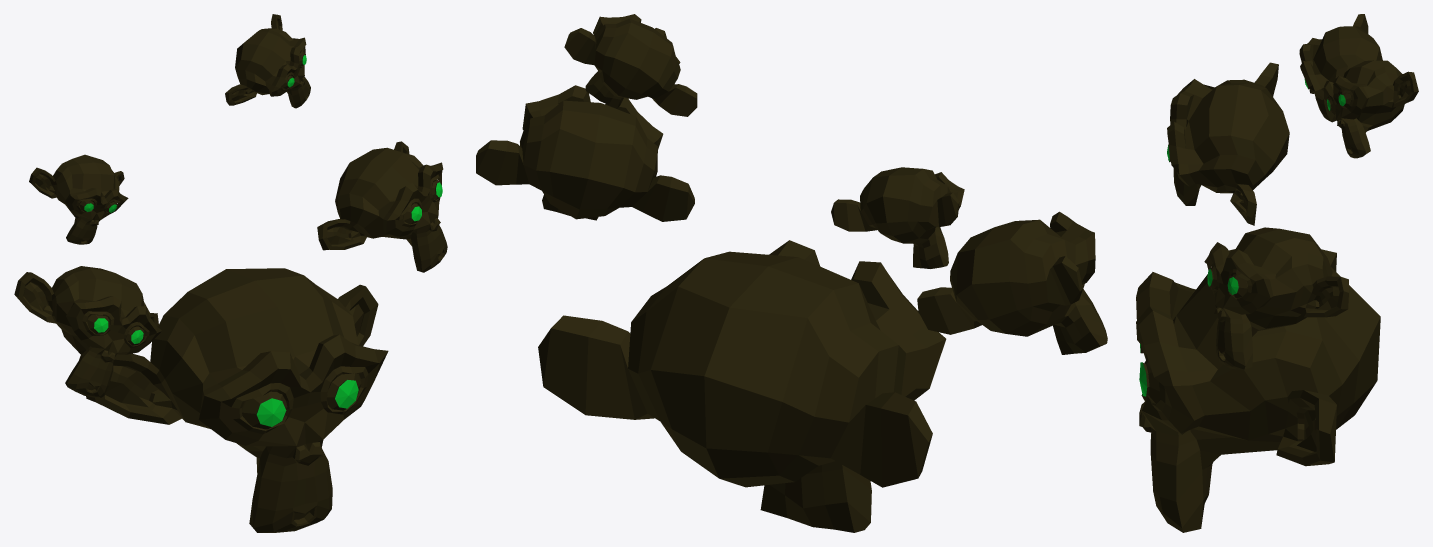
File: hoge.glb
3 renders of one model, left to right at view 1: azimuth 30°, elevation 25°; view 2: azimuth 150°, elevation 25°; view 3: azimuth 270°, elevation 25°, orthographic. The views are drawn at different scales.
Visible parts, largest first — view 1: Suzanne, Suzanne.002, Suzanne.001, Suzanne.003, Suzanne.004; view 2: Suzanne, Suzanne.002, Suzanne.001, Suzanne.003, Suzanne.004; view 3: Suzanne, Suzanne.001, Suzanne.002, Suzanne.003, Suzanne.004.
Boxes of the visible parts, bbox=[...] form: Suzanne: bbox=[86, 268, 388, 532]; Suzanne.002: bbox=[317, 141, 447, 272]; Suzanne.001: bbox=[14, 266, 161, 397]; Suzanne.003: bbox=[225, 14, 310, 108]; Suzanne.004: bbox=[29, 154, 128, 244]; Suzanne: bbox=[538, 240, 946, 532]; Suzanne.002: bbox=[476, 85, 694, 221]; Suzanne.001: bbox=[917, 211, 1107, 354]; Suzanne.003: bbox=[564, 14, 697, 116]; Suzanne.004: bbox=[831, 167, 964, 268]; Suzanne: bbox=[1136, 249, 1380, 532]; Suzanne.001: bbox=[1167, 62, 1289, 225]; Suzanne.002: bbox=[1204, 227, 1348, 369]; Suzanne.003: bbox=[1324, 60, 1418, 158]; Suzanne.004: bbox=[1299, 14, 1382, 122].
Bounding box in the file's own units: 3.05 × 2.92 × 1.52.
